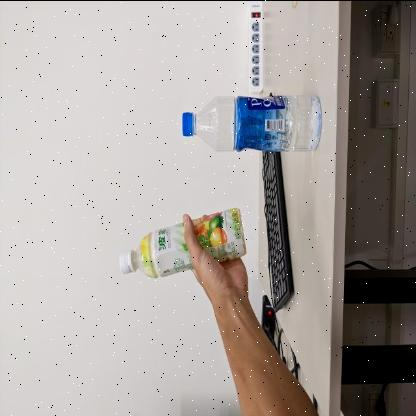Plastic Bottle: (118, 207, 246, 279), (180, 94, 322, 152)
